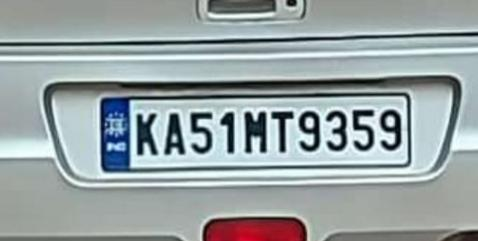1: (219, 104, 236, 157)
3: (322, 107, 349, 156)
5: (350, 105, 376, 157), (189, 110, 217, 154)
9: (378, 107, 406, 155), (297, 104, 319, 154)
A: (160, 102, 187, 161)
K: (133, 103, 160, 158)
M: (241, 99, 271, 154)
T: (271, 106, 295, 156)
